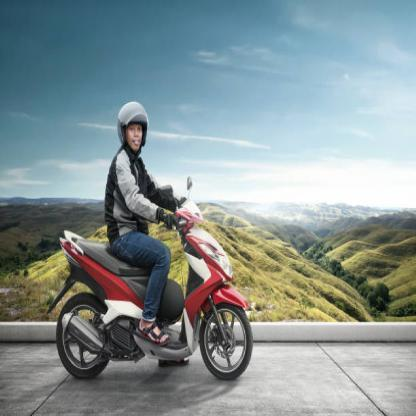Motorcycle: (47, 185, 259, 390)
